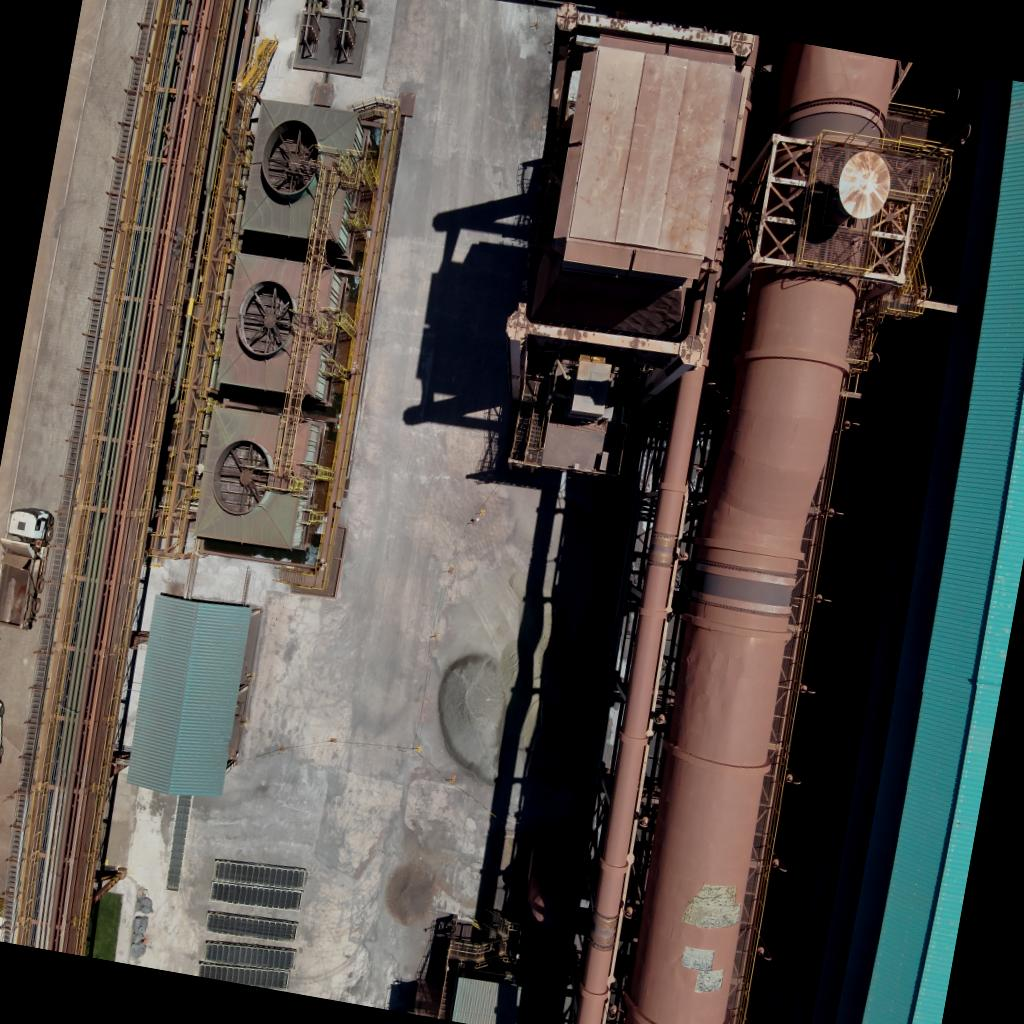Failures: (680, 876, 747, 935), (677, 944, 730, 997)
